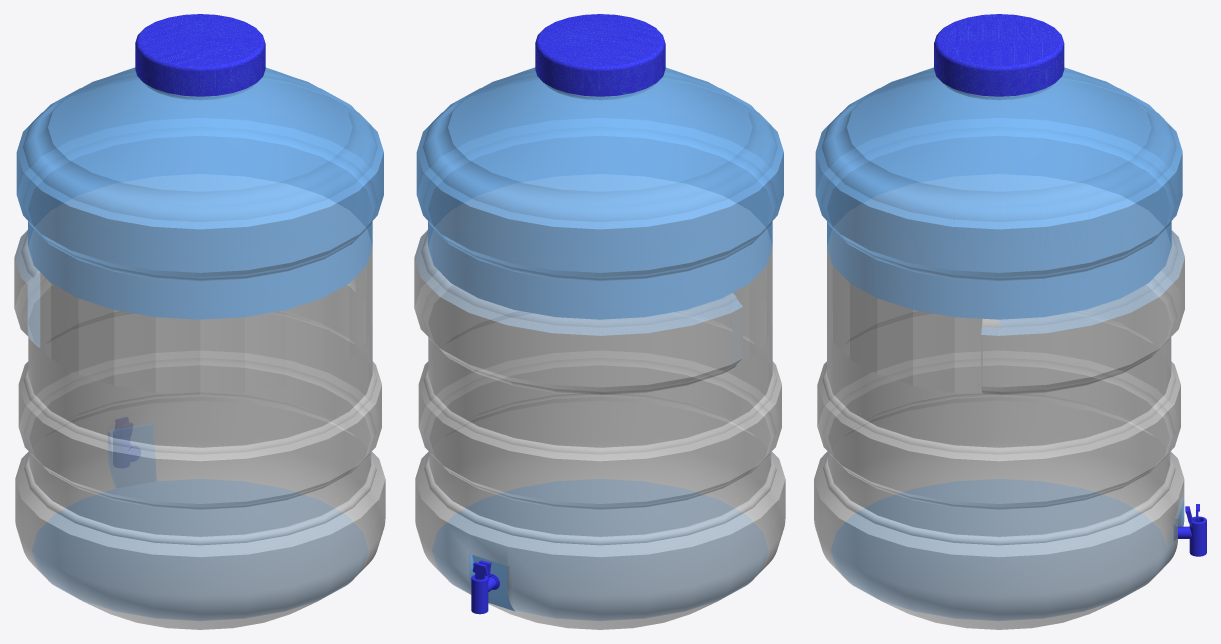
The picture shows the model from 3 angles, left to right: view 1: azimuth 30°, elevation 25°; view 2: azimuth 150°, elevation 25°; view 3: azimuth 270°, elevation 25°; orthographic projection.
Parts seen in each view (by area): view 1: mesh12_mesh12-geometry; view 2: mesh12_mesh12-geometry, mesh8_mesh8-geometry; view 3: mesh12_mesh12-geometry, mesh8_mesh8-geometry.
Boxes of the visible parts, x1,y1,x2,y2 form: mesh12_mesh12-geometry: [14, 14, 385, 629]; mesh12_mesh12-geometry: [414, 14, 785, 629]; mesh8_mesh8-geometry: [471, 560, 491, 614]; mesh12_mesh12-geometry: [814, 14, 1184, 629]; mesh8_mesh8-geometry: [1185, 504, 1206, 556].
Size of the model in its own units: 0.4632 by 0.7381 by 0.4905.
